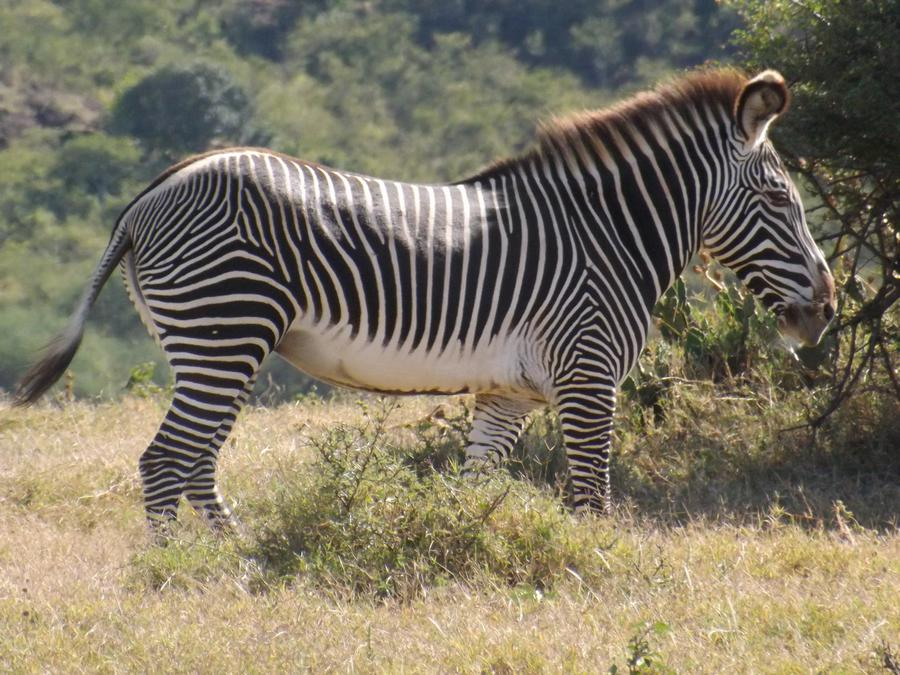zebra_grevys: (95, 140, 623, 394)
